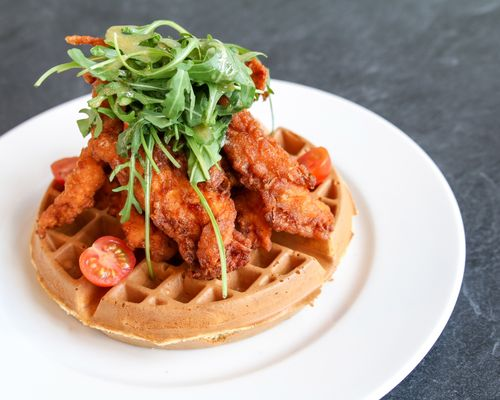curry: (4, 1, 497, 400)
